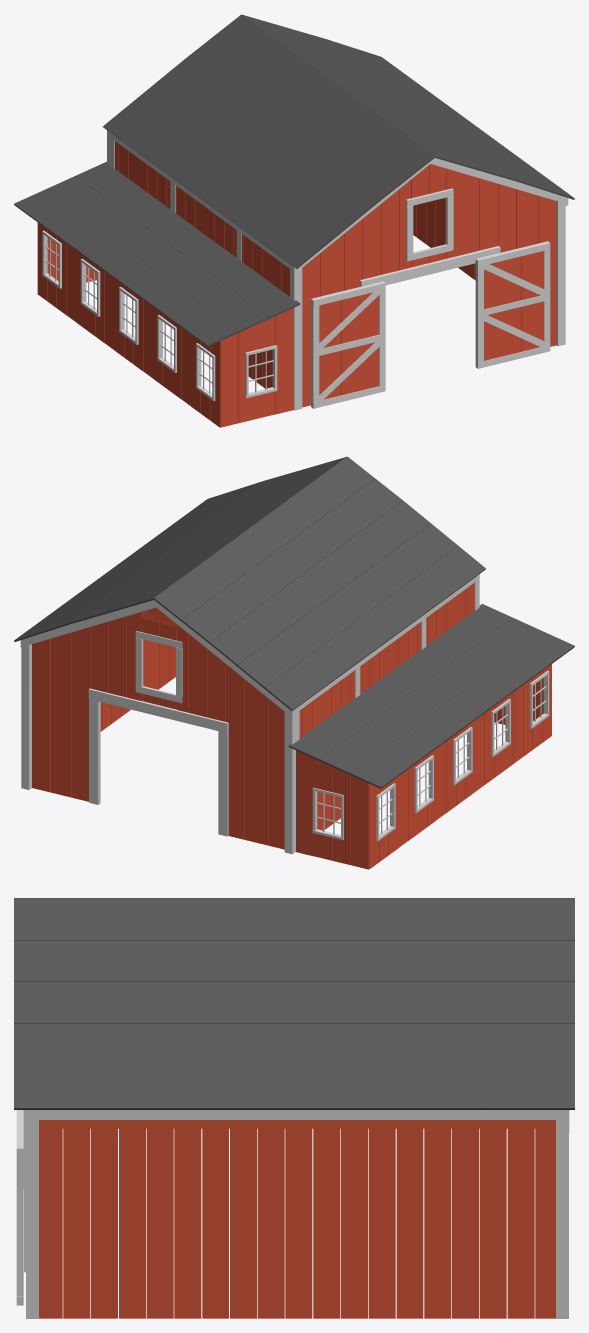
Rendered from Barn.fbx.
The picture shows the model from 3 angles, top to bottom: view 1: azimuth 30°, elevation 25°; view 2: azimuth 150°, elevation 25°; view 3: azimuth 270°, elevation 25°; orthographic projection. The views are drawn at different scales.
Parts seen in each view (by area): view 1: Barn; view 2: Barn; view 3: Barn.
Part boxes in pixels (left/top/right/bottom): Barn: left=14, top=14, right=574, bottom=427; Barn: left=14, top=456, right=574, bottom=869; Barn: left=14, top=898, right=574, bottom=1318.
Size of the model in its own units: 1099 by 641 by 1002.
